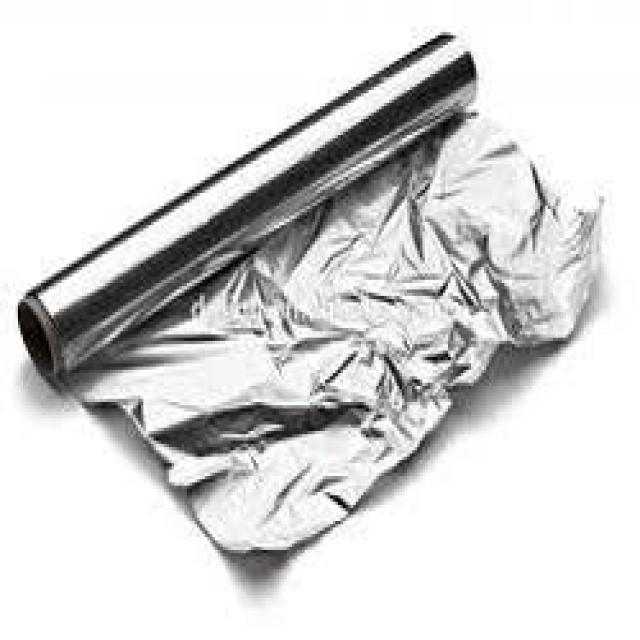metal: (16, 29, 602, 553)
